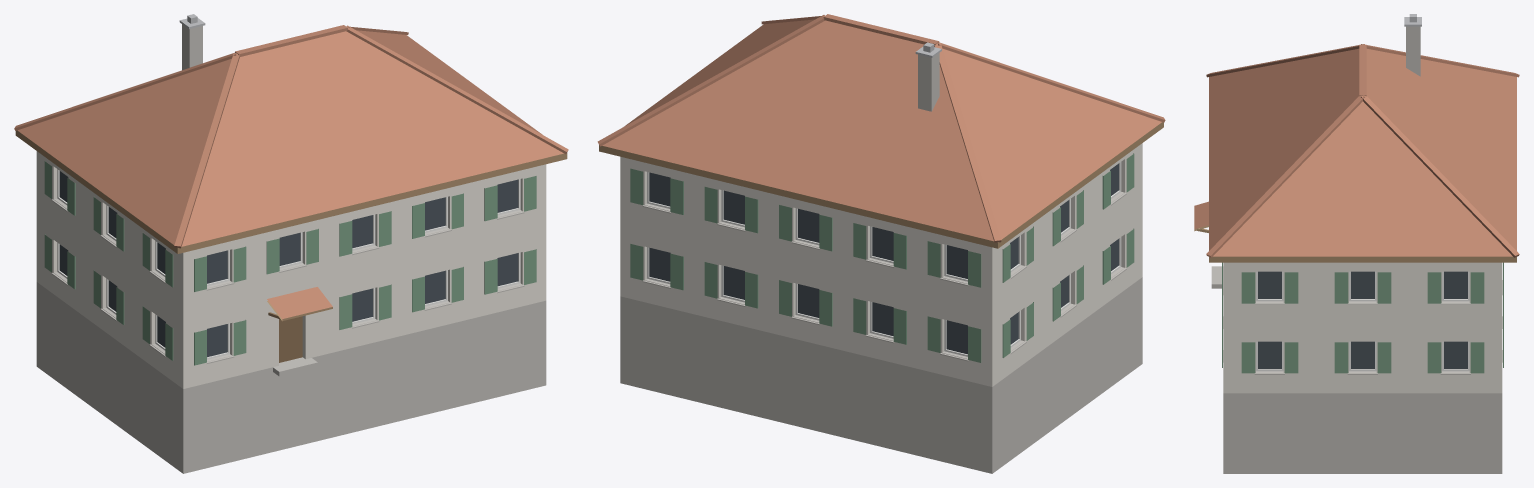
Rendered from french_house_2_l.glb.
3 renders of one model, left to right at view 1: azimuth 30°, elevation 25°; view 2: azimuth 150°, elevation 25°; view 3: azimuth 270°, elevation 25°, orthographic. The views are drawn at different scales.
Parts seen in each view (by area): view 1: french_house_2_l; view 2: french_house_2_l; view 3: french_house_2_l.
Part boxes in pixels (x1,y1,x2,y2): french_house_2_l: (14,14,568,473); french_house_2_l: (597,14,1165,473); french_house_2_l: (1194,14,1519,473).
Bounding box in the file's own units: 16.3 × 14.14 × 12.25.
